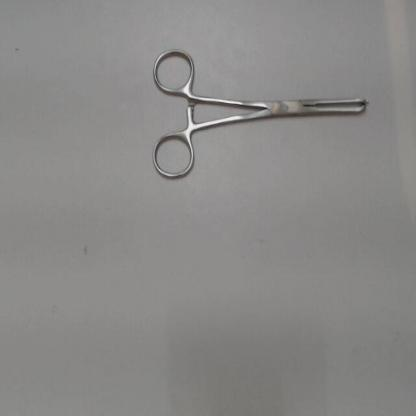Allis Tissue Forceps: (146, 43, 377, 193)
